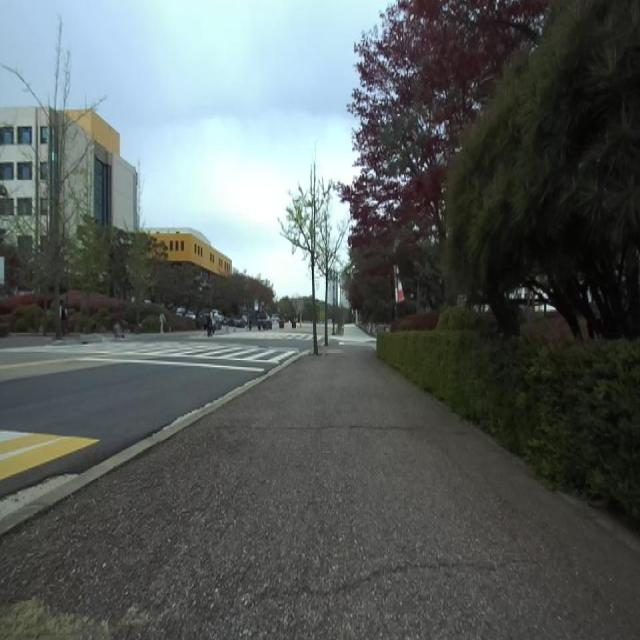sidewalk: (0, 344, 640, 639), (0, 349, 310, 536)
